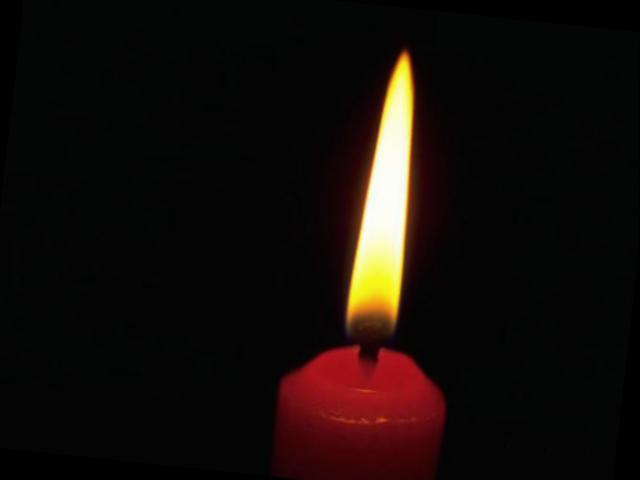fire: (345, 43, 432, 341)
